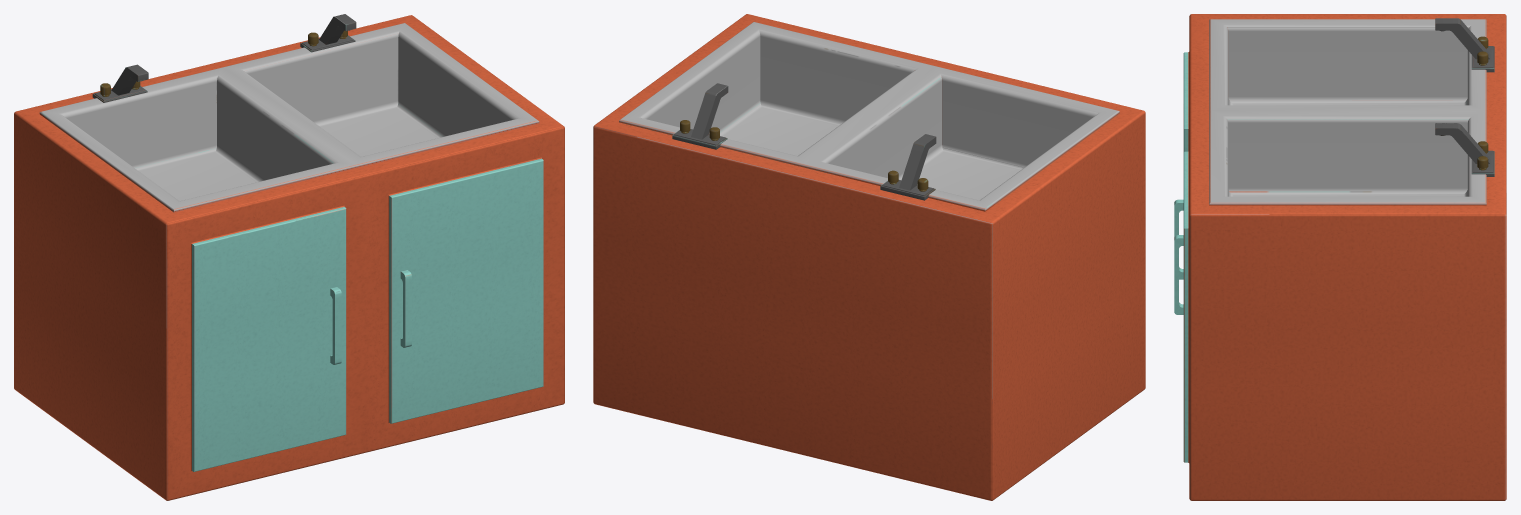
The model's file is KitchenSink.002.fbx.
3 renders of one model, left to right at view 1: azimuth 30°, elevation 25°; view 2: azimuth 150°, elevation 25°; view 3: azimuth 270°, elevation 25°, orthographic. The views are drawn at different scales.
Parts seen in each view (by area): view 1: KitchenSink.002_Baked; view 2: KitchenSink.002_Baked; view 3: KitchenSink.002_Baked.
Boxes of the visible parts, bbox=[...] form: KitchenSink.002_Baked: bbox=[14, 14, 564, 500]; KitchenSink.002_Baked: bbox=[593, 14, 1145, 500]; KitchenSink.002_Baked: bbox=[1174, 14, 1506, 500].
Size of the model in its own units: 150 by 114 by 105.
Materials: 1 (1 with a texture image).
